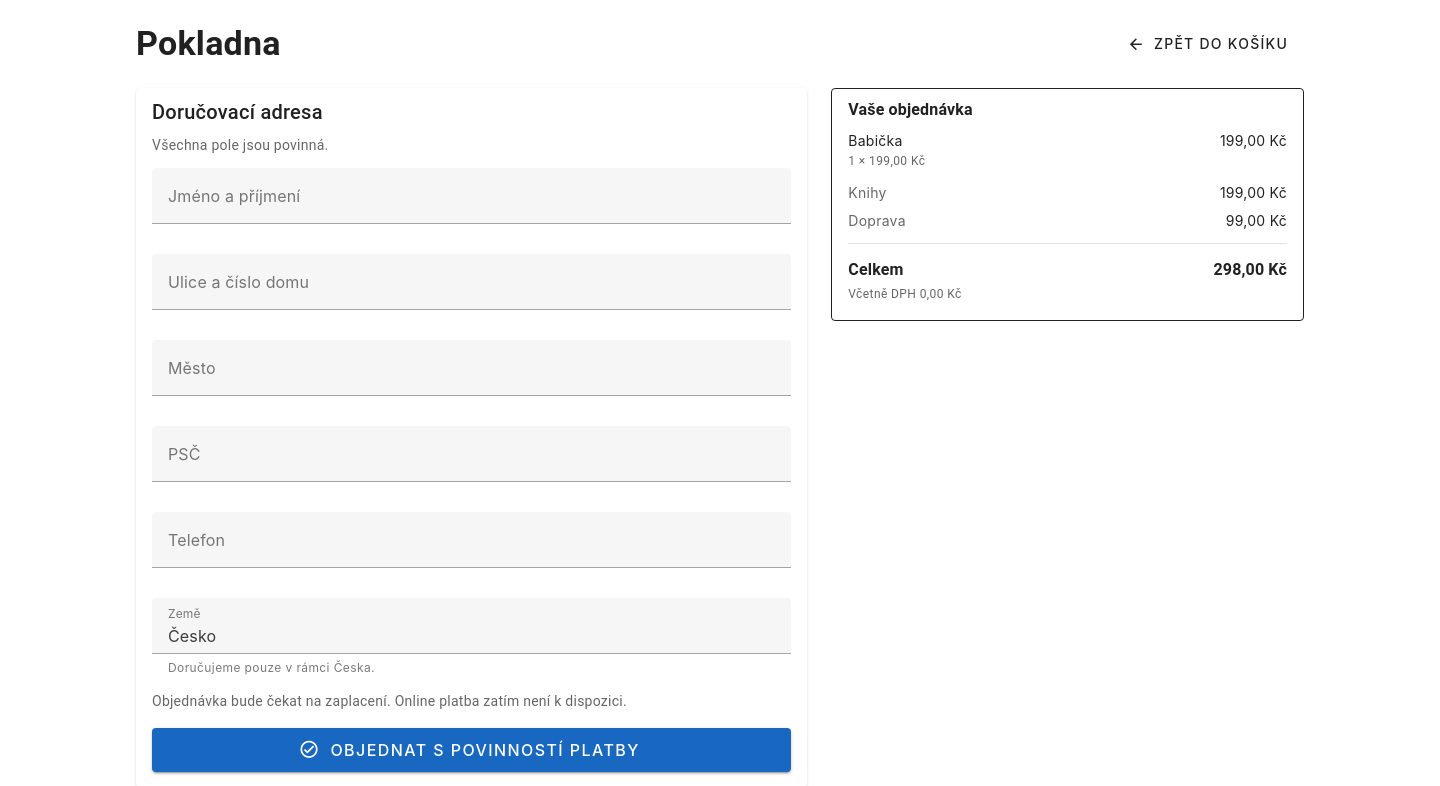
Scenario: CheckoutView › shows every problem of an empty form at its field and in a focused summary, without sending
Step 1. Click the button "Objednat s povinností platby" → point(472, 750), box top-left (152, 728), bottom-right (791, 772)
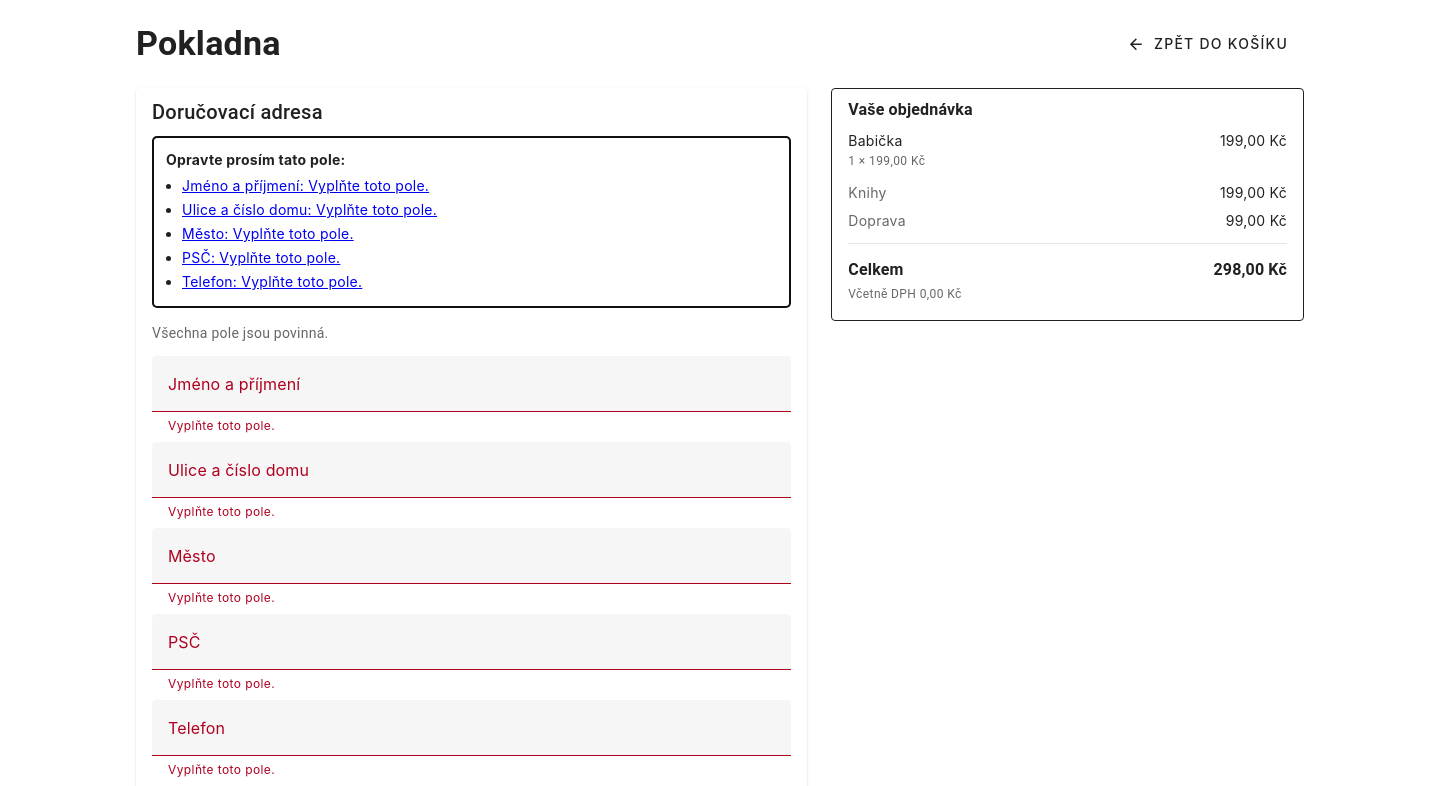
Check: the link with id "checkout-fullName" is shown, box top-left (182, 174), bottom-right (429, 198)
Check: the 1st message "Vyplňte toto pole." is shown, box top-left (168, 418), bottom-right (275, 433)
